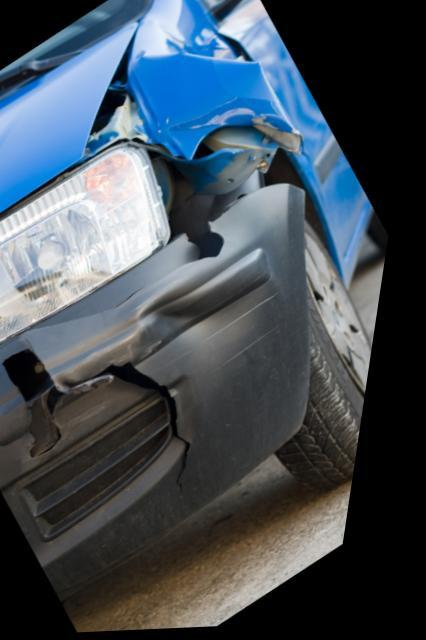crack: (14, 349, 205, 500), (120, 224, 235, 311)
dent: (134, 52, 283, 151), (150, 277, 274, 349)
dislocated part: (81, 25, 309, 235)
